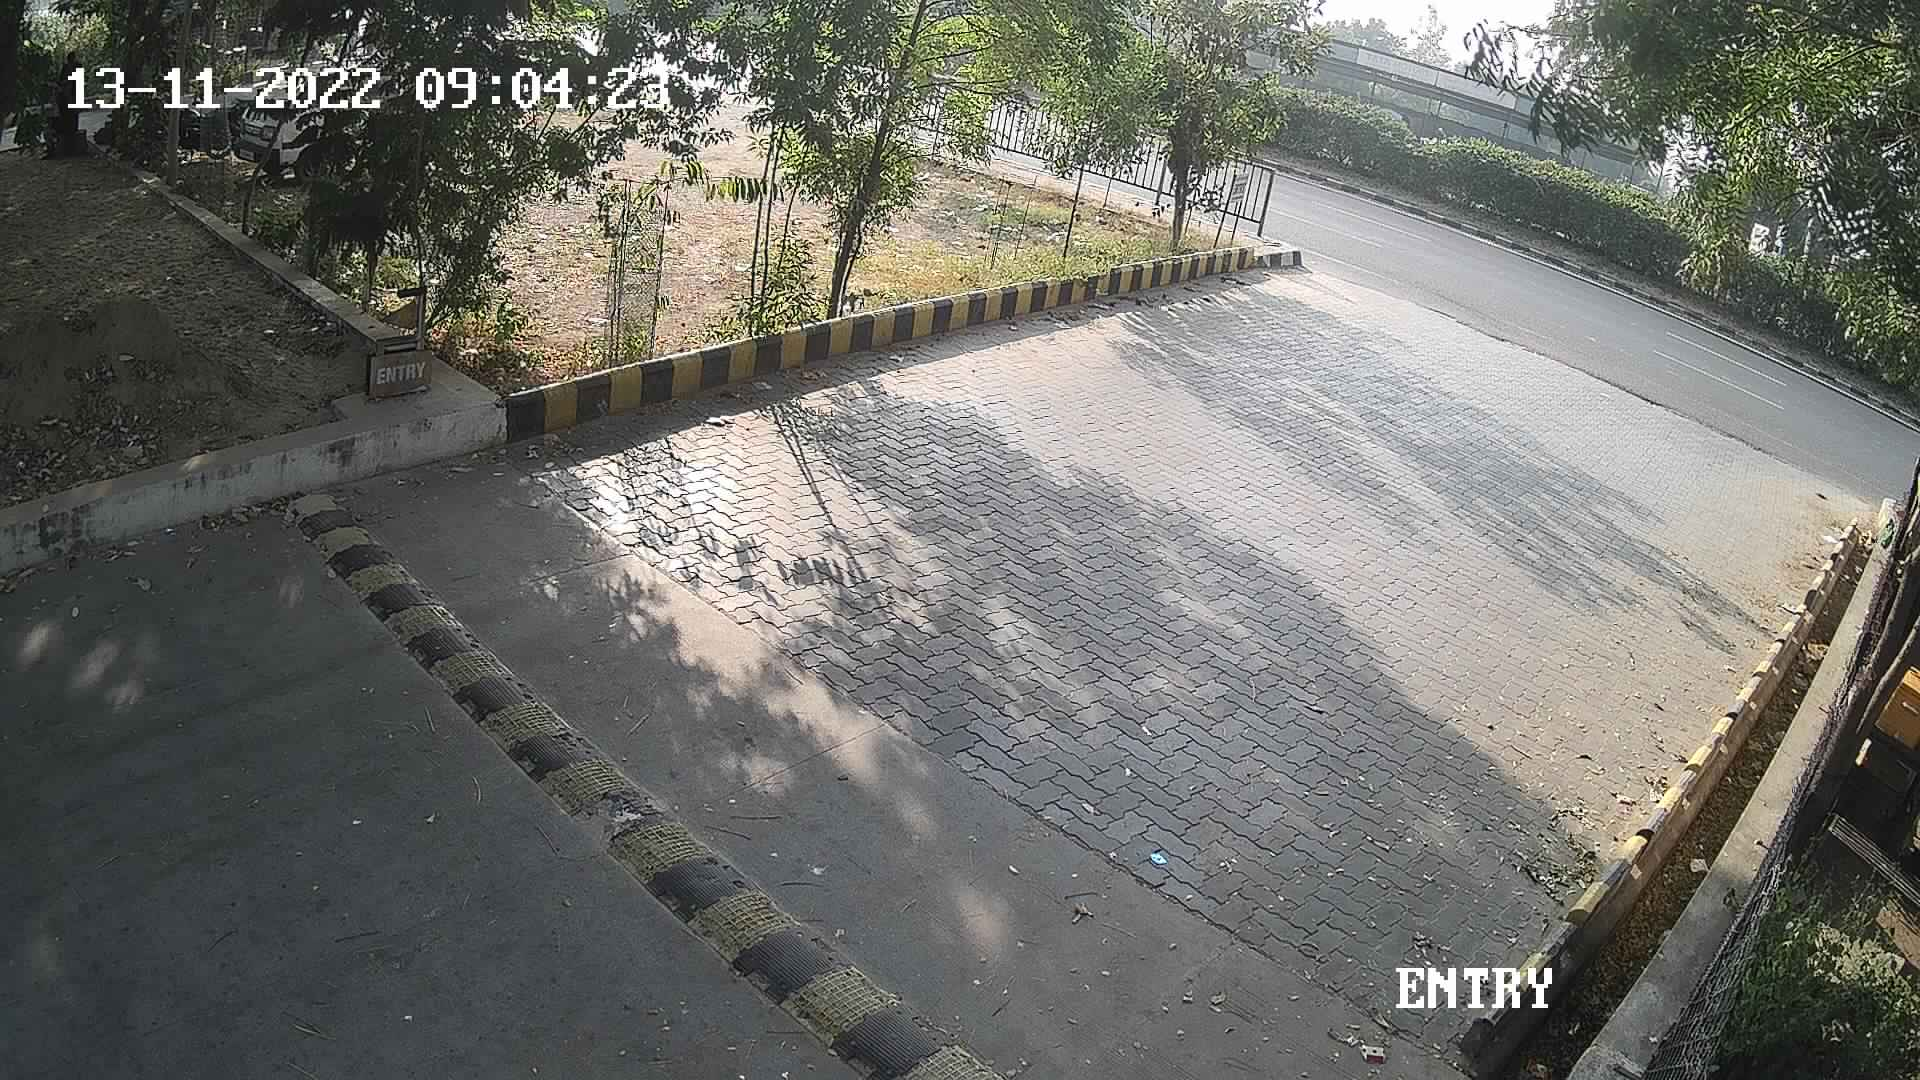Car: (218, 50, 342, 194)
